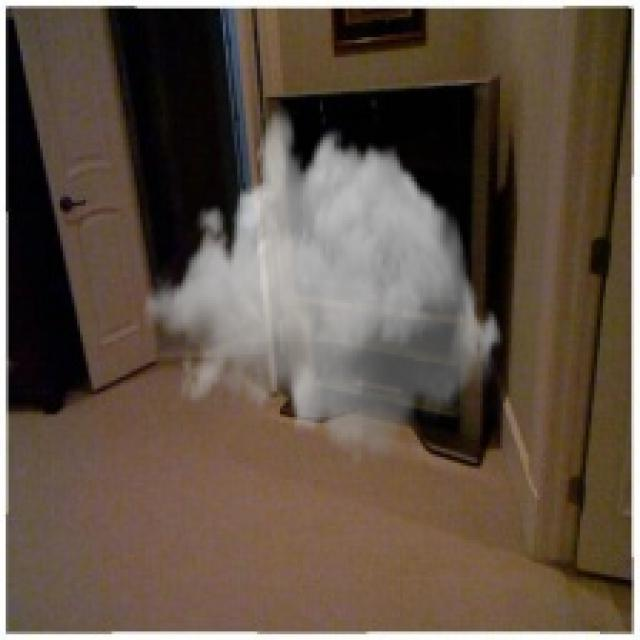Smoke: (143, 102, 506, 472)
